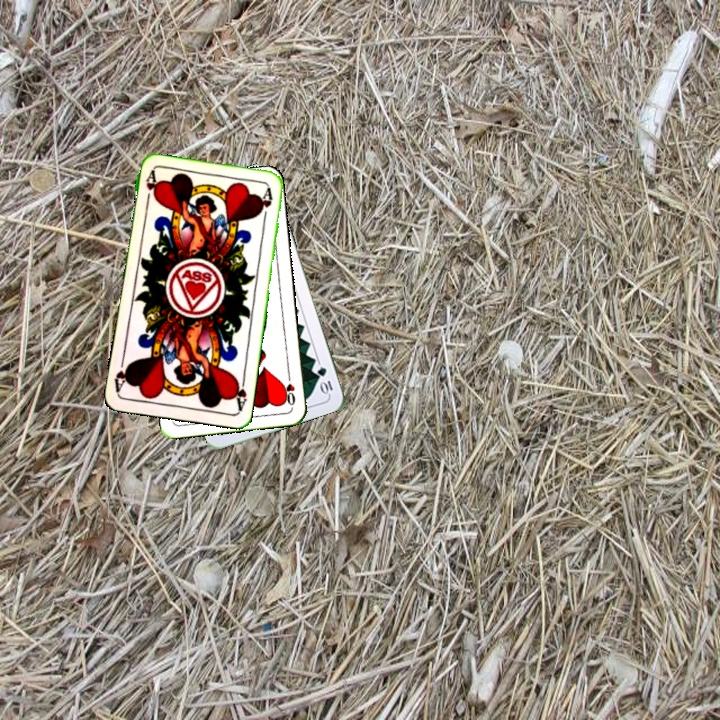G10: (313, 363, 335, 397)
HA: (229, 372, 249, 412), (142, 168, 159, 208)
HO: (281, 368, 298, 408)
